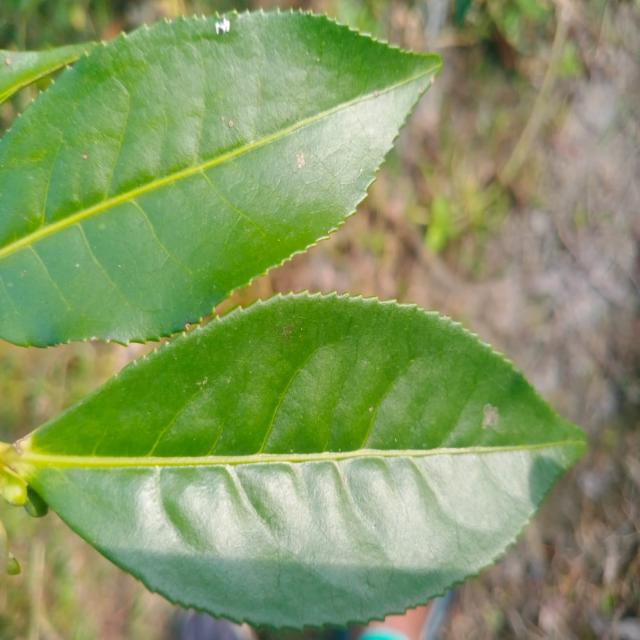Category D(7+ days, Not for Tea): (0, 282, 612, 632)
